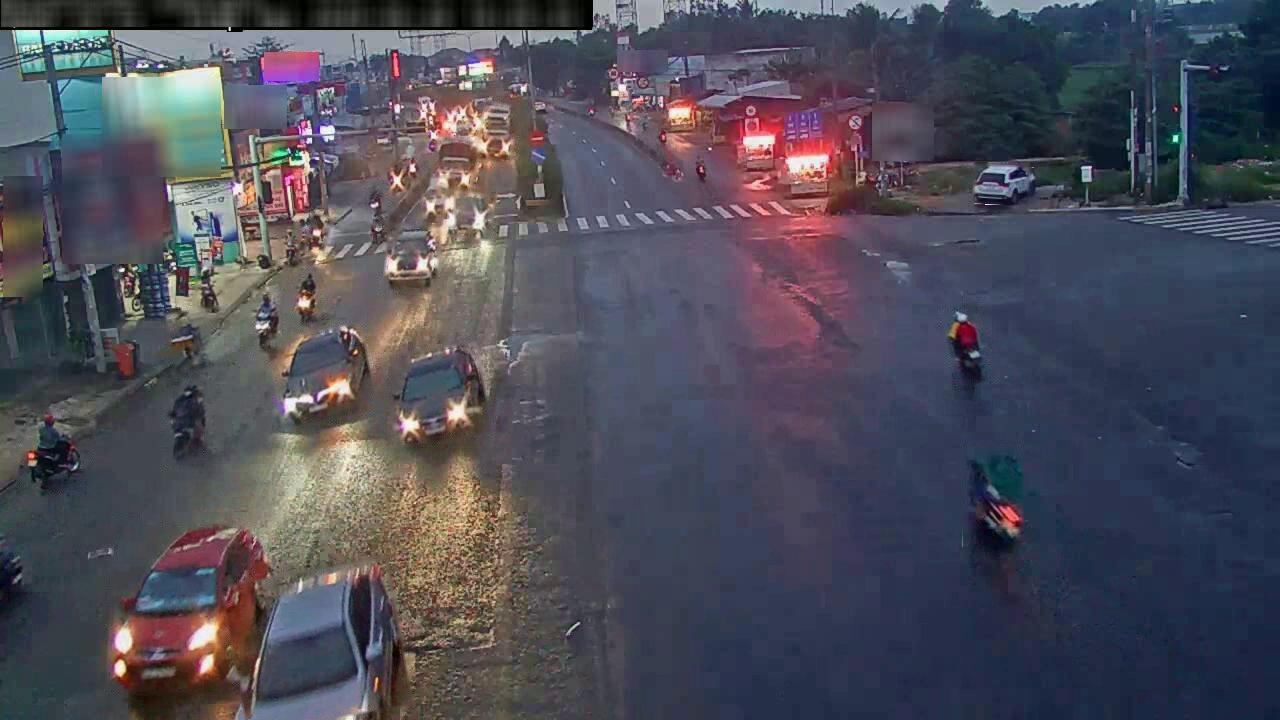Car: (111, 525, 270, 697), (237, 564, 403, 719), (394, 347, 486, 442), (282, 328, 369, 421), (384, 234, 437, 286), (973, 164, 1036, 204), (448, 195, 487, 235), (484, 195, 519, 238), (422, 176, 454, 222), (483, 106, 511, 133)
Motorcycle: (969, 455, 1023, 543), (0, 536, 24, 600), (170, 323, 202, 362), (200, 280, 219, 312), (370, 217, 385, 247)
Motorcyclist: (26, 412, 81, 489), (169, 384, 205, 458), (948, 312, 983, 379), (254, 293, 278, 347), (296, 274, 316, 322), (307, 213, 326, 252), (367, 184, 384, 221), (283, 226, 298, 265)
Traffic light: (390, 50, 401, 79)
Truck: (436, 138, 477, 187)
